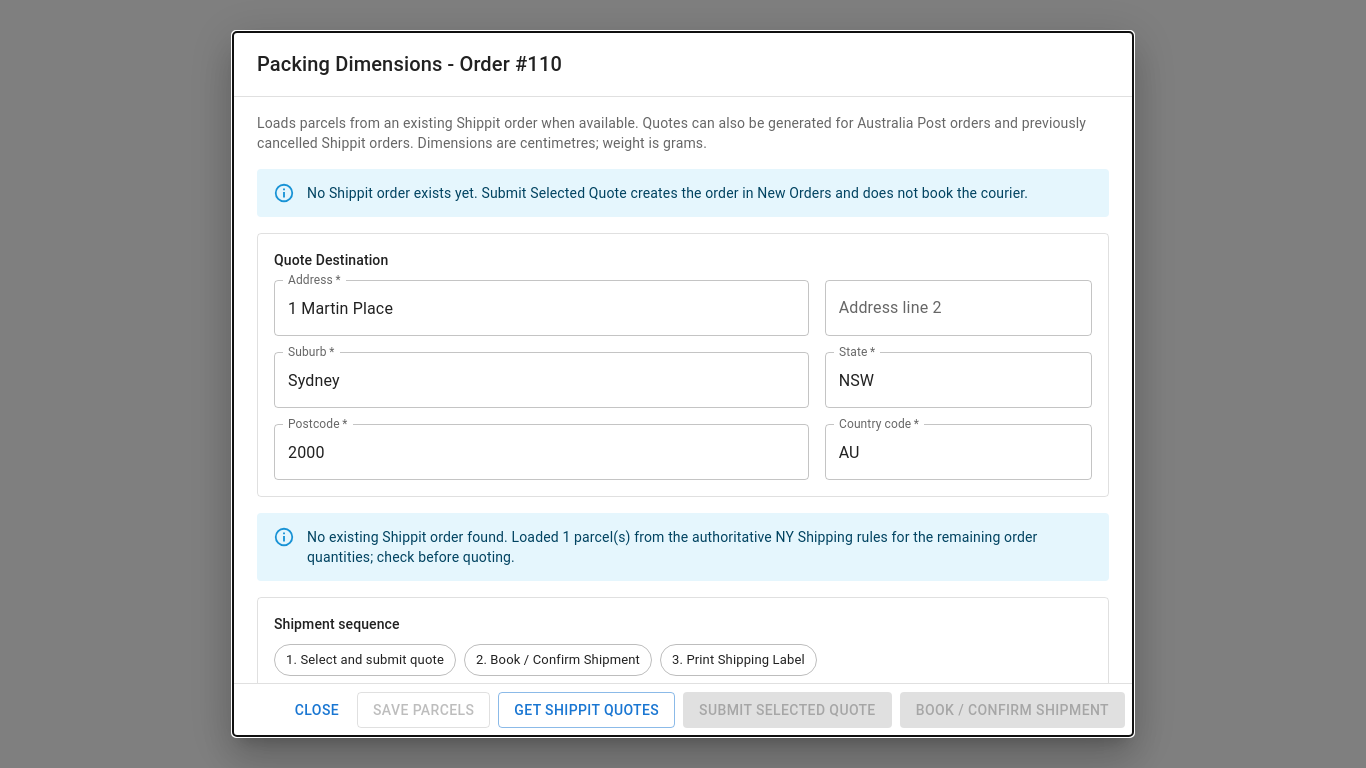
Test: PackingDimensionsDialog › keeps submit disabled when a parcel dimension is missing or the quote request failed
Click the button "Get Shippit Quotes" at {"x": 587, "y": 710}, box [498,692,675,728]
(page scrolled)
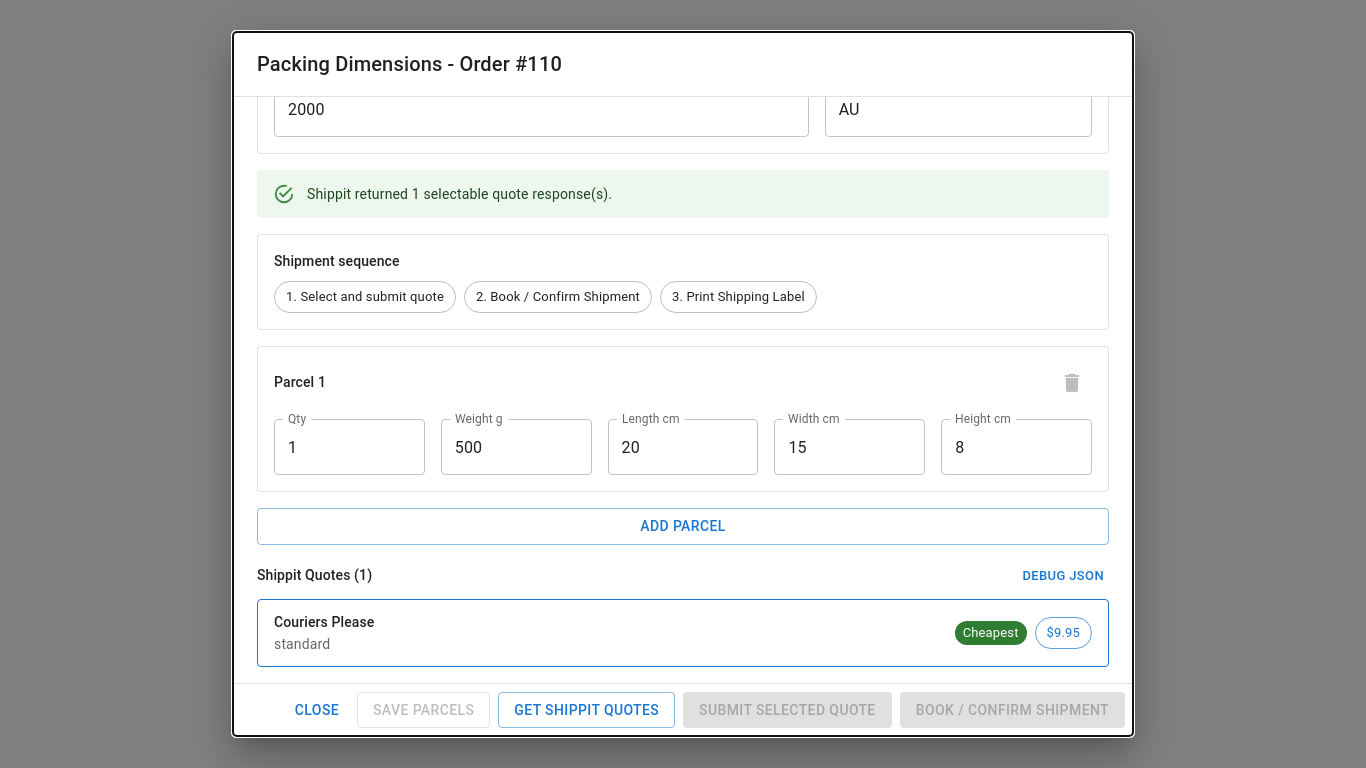
Expected: the button "Submit Selected Quote" is disabled, [683,692,892,728]
Now the button with aria-label "Select Couriers Please quote for $9.95" is shown, box [257,599,1109,667]
Clear the number field labelled "Weight g" at {"x": 516, "y": 447}, box [441,419,592,475]
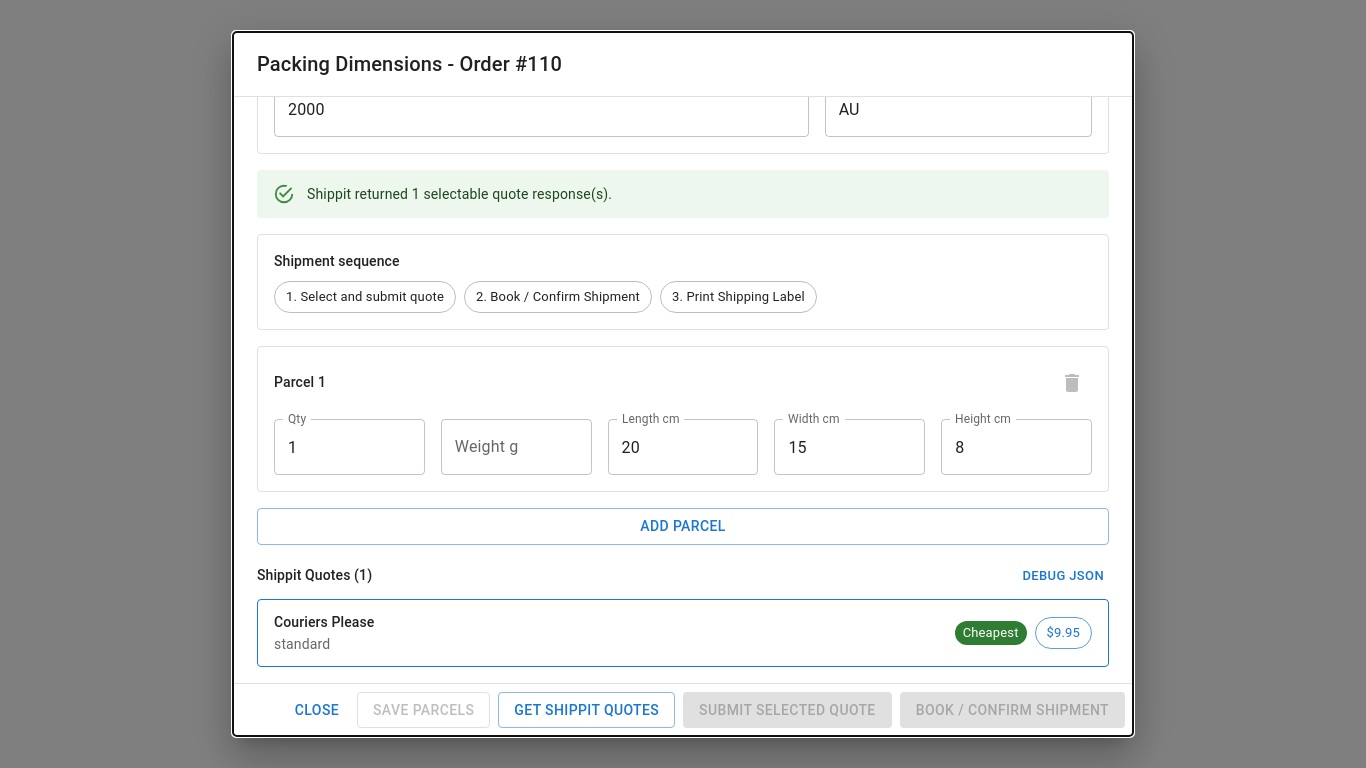
Click the button "Get Shippit Quotes" at {"x": 587, "y": 710}, box [498,692,675,728]
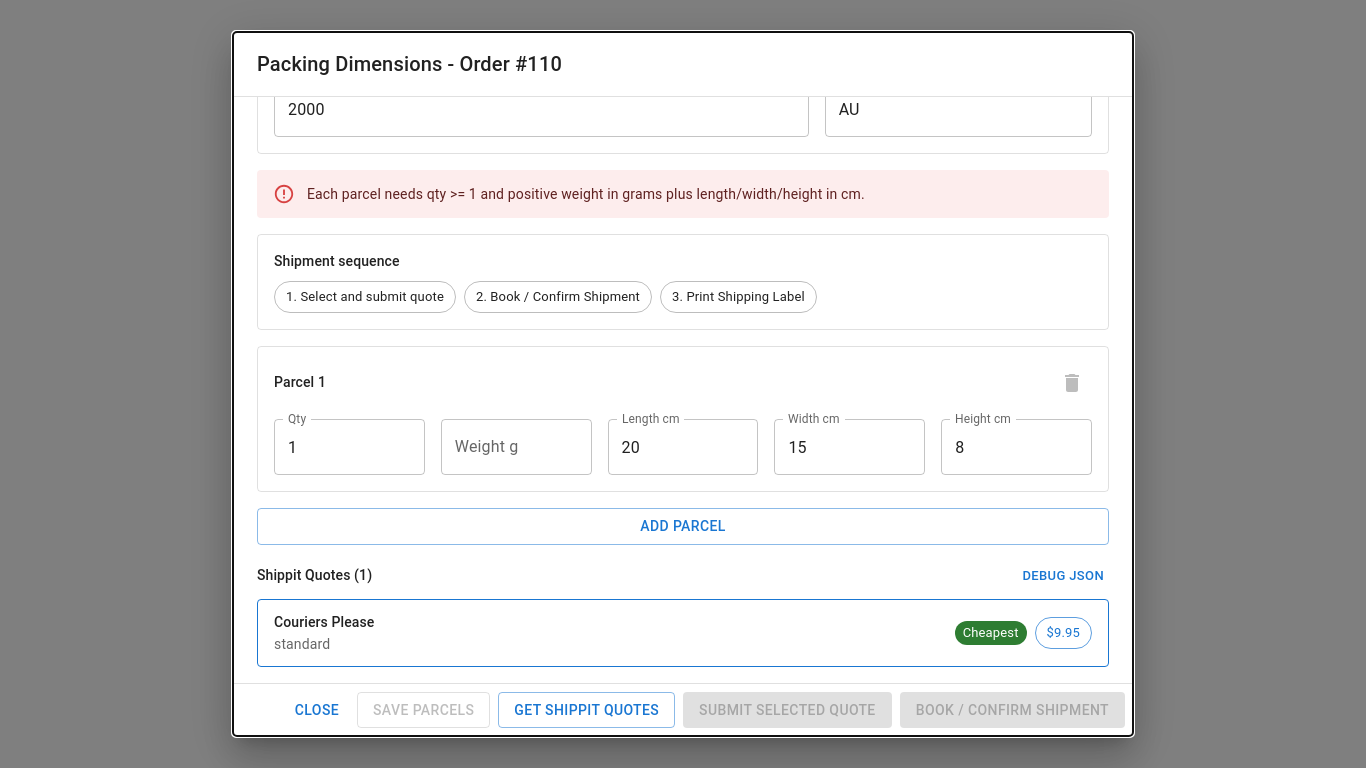
Expected: the button "Submit Selected Quote" is disabled, [683,692,892,728]
Now the text "positive weight" is shown, box [307,186,865,202]
